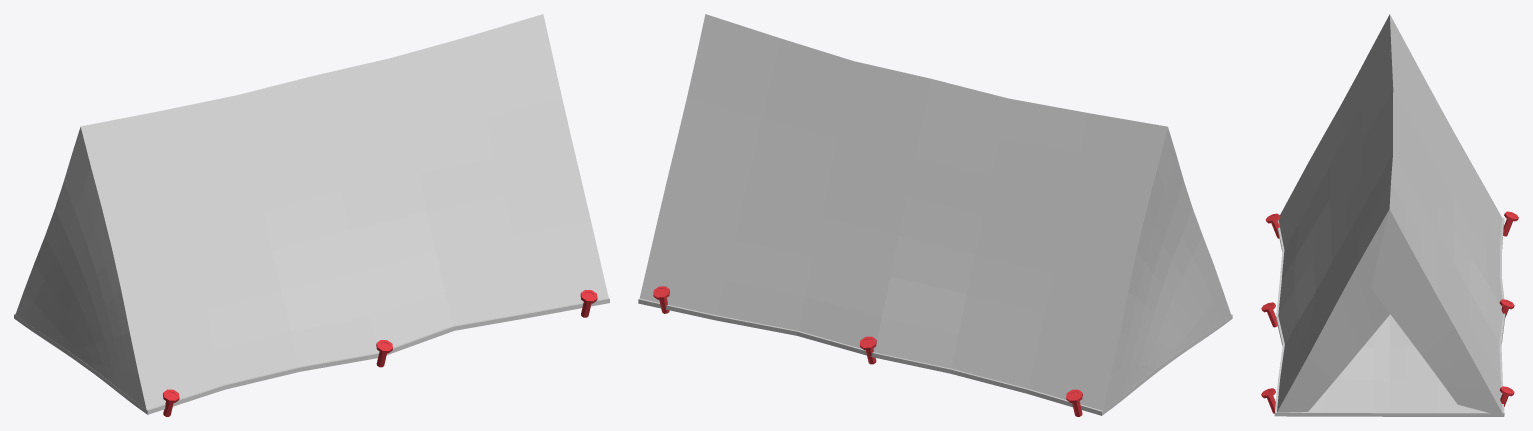
File: Tente.fbx
The picture shows the model from 3 angles, left to right: view 1: azimuth 30°, elevation 25°; view 2: azimuth 150°, elevation 25°; view 3: azimuth 270°, elevation 25°; orthographic projection. The views are drawn at different scales.
Parts seen in each view (by area): view 1: Circle; view 2: Circle; view 3: Circle.
Boxes of the visible parts, left/top/right/bottom form: Circle: left=14, top=14, right=609, bottom=416; Circle: left=638, top=14, right=1232, bottom=416; Circle: left=1261, top=14, right=1518, bottom=416.
Size of the model in its own units: 1245 by 637 by 694.
